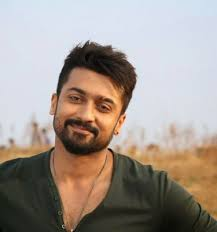b.y: (60, 121, 99, 154)
